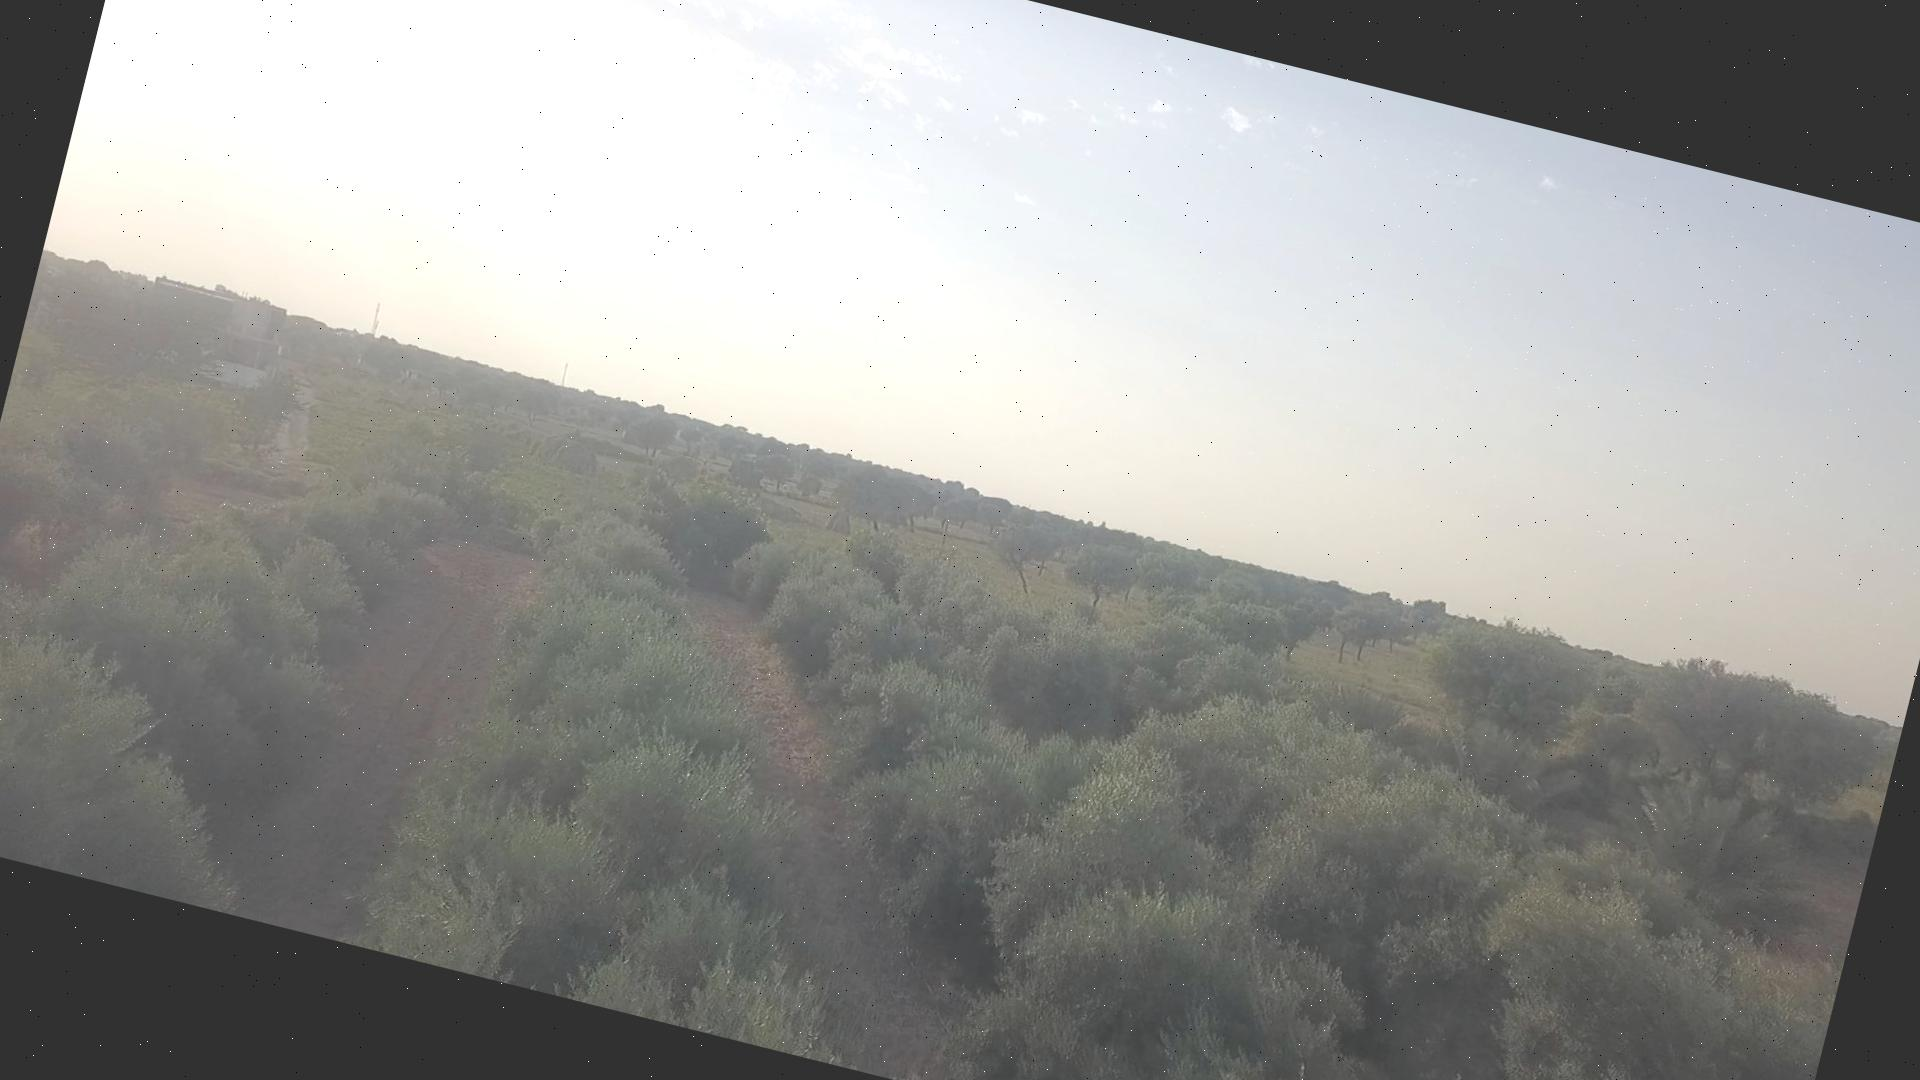canopy: (898, 560, 1842, 1080), (740, 543, 1341, 1080), (361, 512, 836, 1059), (0, 467, 481, 905), (0, 401, 200, 526)
road: (692, 597, 964, 1080), (219, 538, 539, 938), (0, 463, 285, 593)
